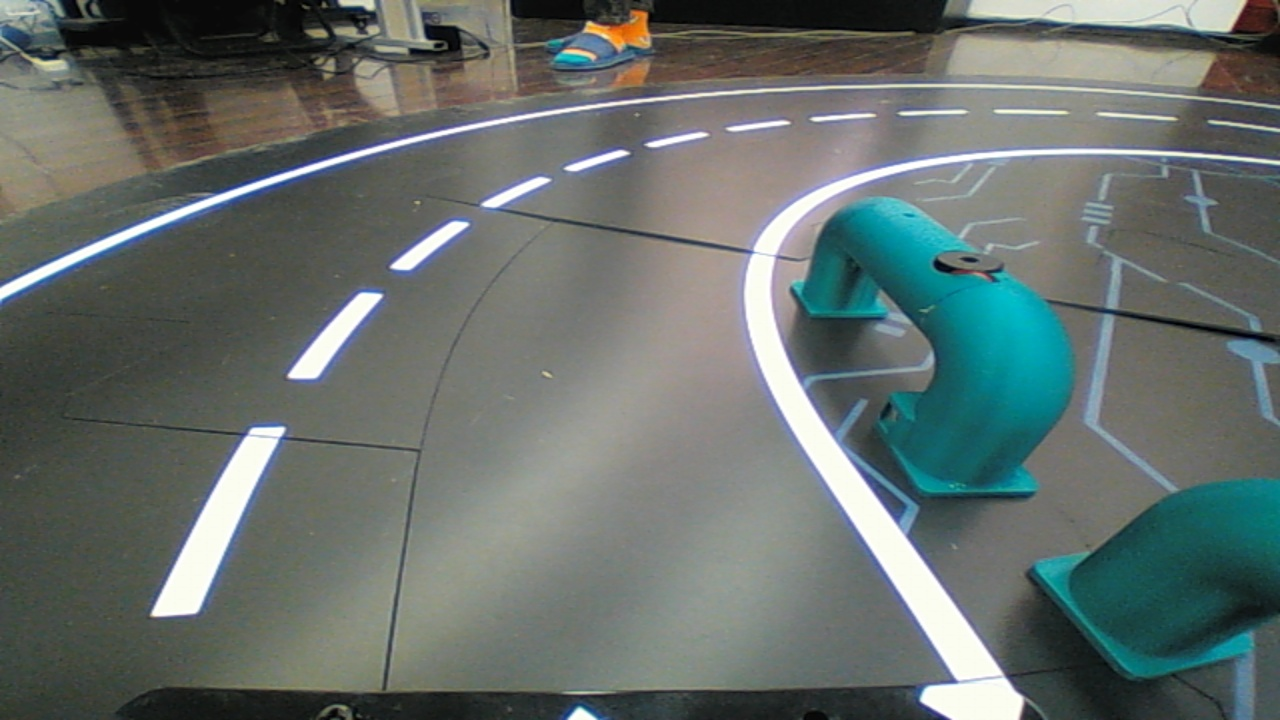Pedestrian crossing: (770, 169, 1085, 517)
